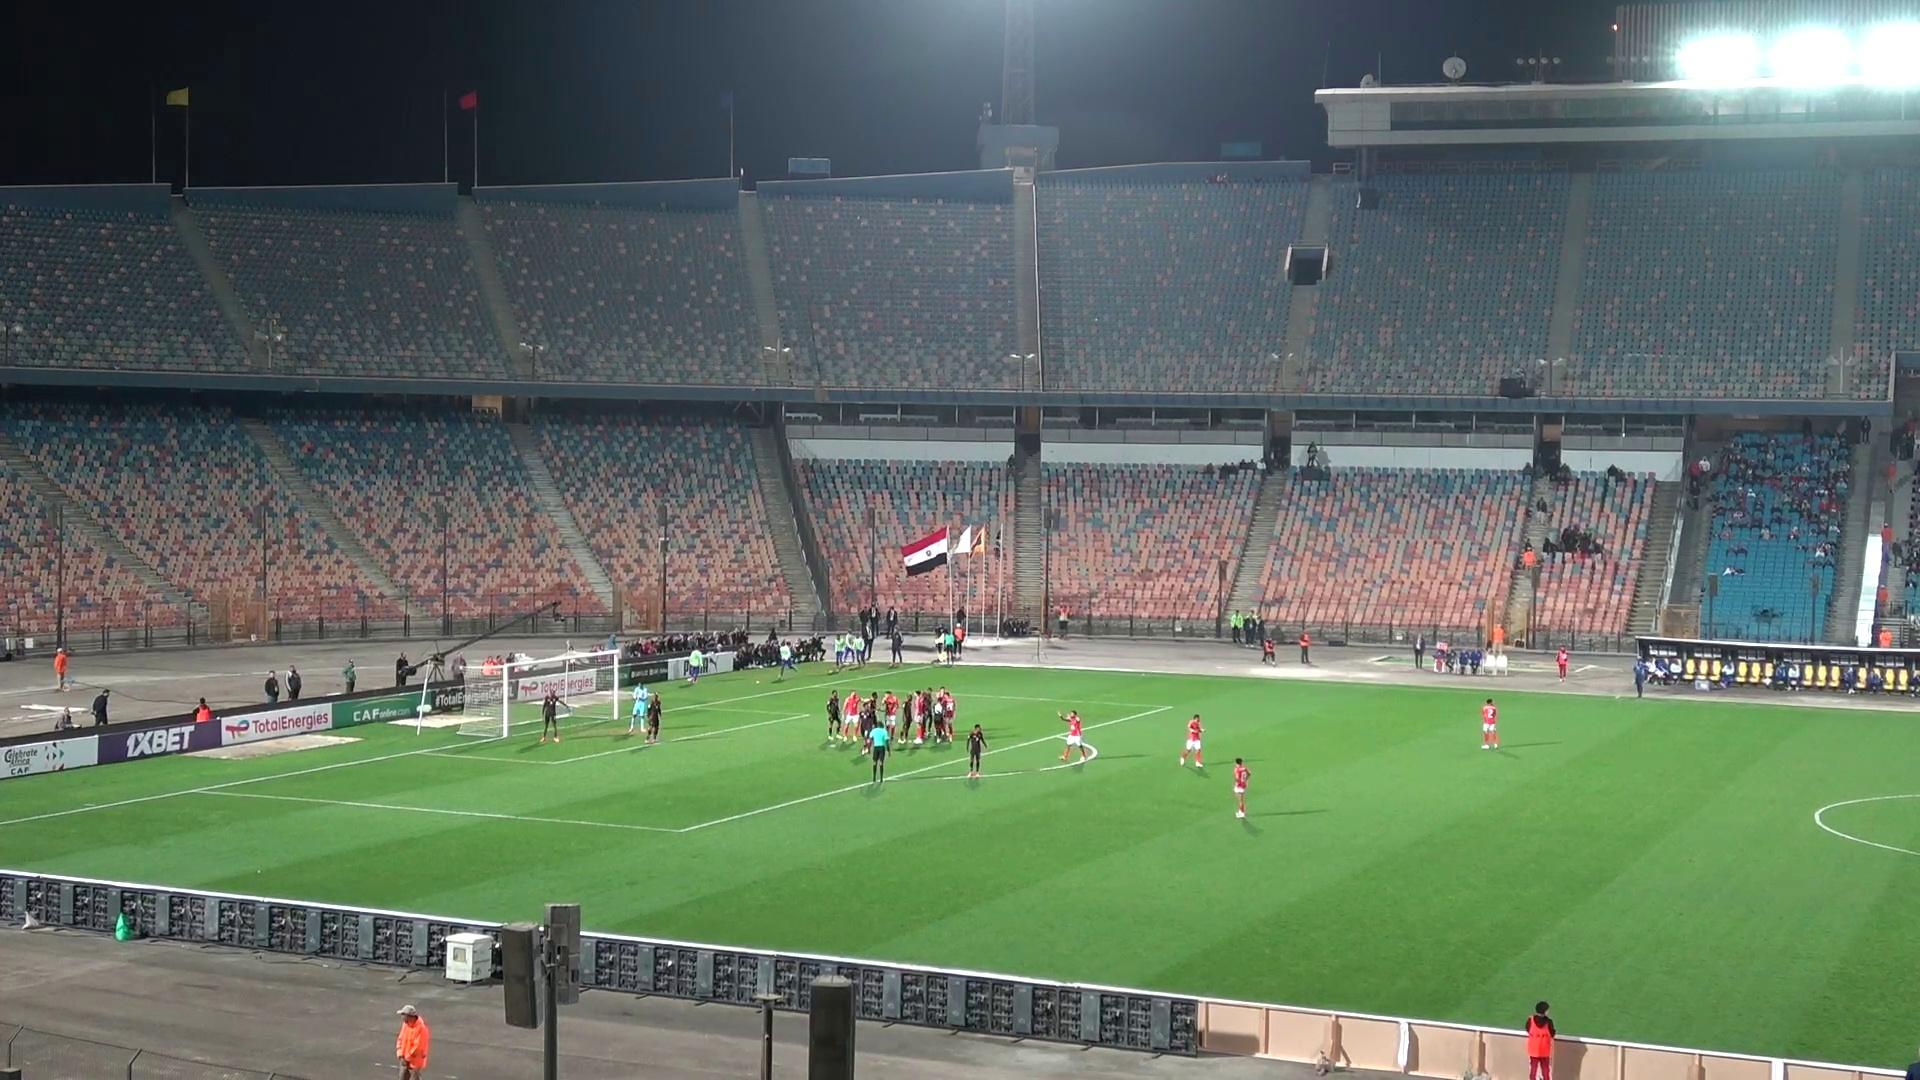GK2: (626, 680, 651, 735)
Refree: (860, 717, 891, 783), (940, 622, 961, 662)
Team1: (1059, 711, 1098, 764), (1176, 713, 1204, 770), (1232, 757, 1251, 822), (839, 691, 862, 742), (1480, 698, 1501, 749), (913, 688, 931, 745), (882, 691, 899, 745)
Team2: (539, 690, 571, 740), (926, 688, 953, 742), (636, 694, 663, 744), (825, 690, 851, 742), (965, 724, 988, 779), (857, 691, 877, 738), (901, 694, 916, 744)
